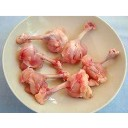chicken_lollipop: (21, 70, 92, 104), (62, 19, 95, 61), (15, 29, 66, 53), (80, 54, 121, 83), (19, 46, 62, 71)
